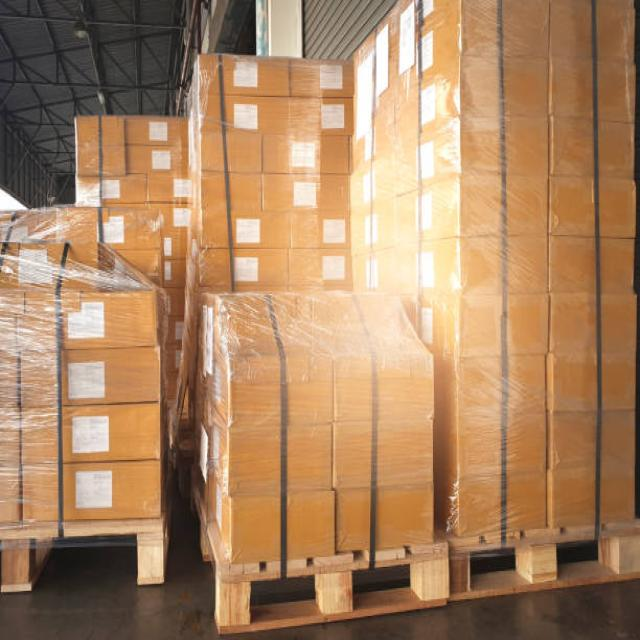Wooden-Pallets: (209, 531, 452, 640), (449, 511, 640, 605)
